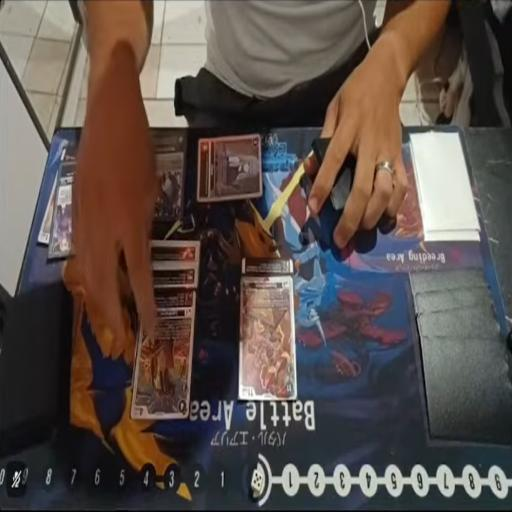card: (130, 291, 196, 422), (240, 274, 298, 408), (35, 145, 84, 243), (141, 129, 187, 228), (197, 133, 260, 205), (48, 164, 82, 259), (144, 258, 198, 291), (242, 257, 293, 283), (144, 240, 202, 262)
